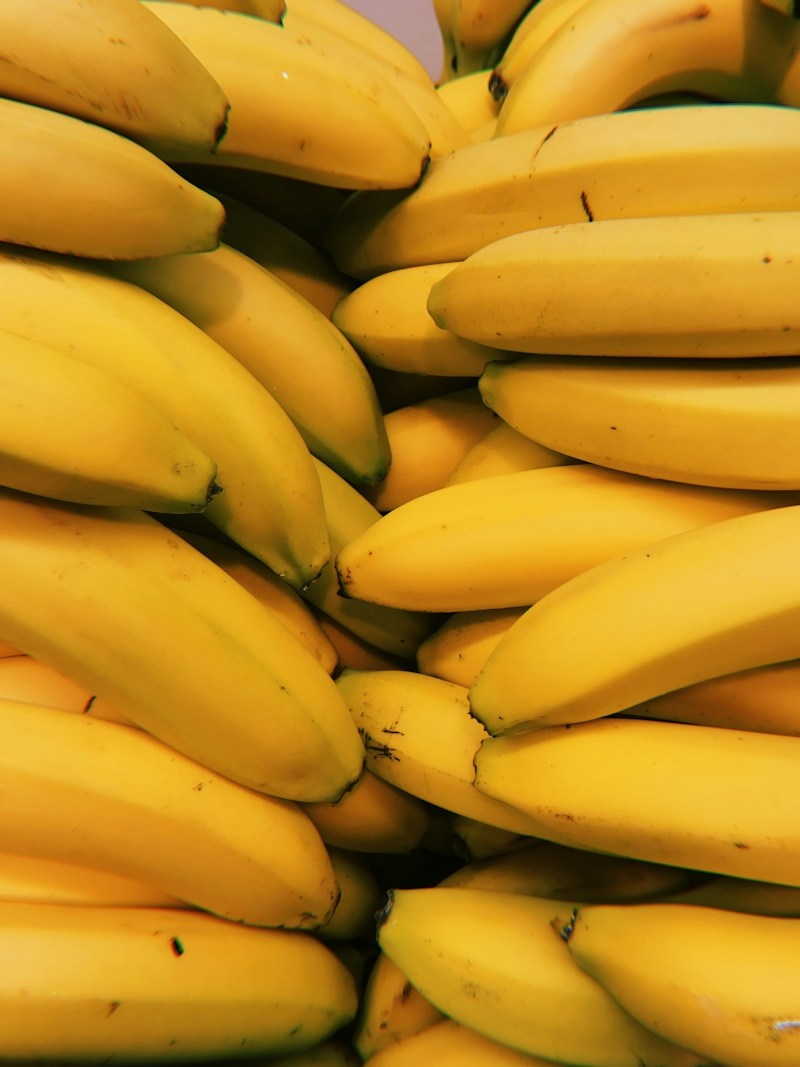banana peel: (0, 0, 798, 1006), (0, 689, 358, 1065), (463, 504, 800, 892), (0, 243, 340, 589), (1, 488, 362, 807), (1, 0, 470, 195), (360, 880, 799, 1067), (1, 698, 343, 933), (339, 108, 800, 276), (114, 241, 395, 494), (330, 460, 791, 612), (0, 889, 364, 1066), (465, 717, 799, 890), (426, 213, 800, 359), (454, 0, 799, 137), (471, 354, 799, 492), (0, 324, 218, 514), (1, 94, 227, 263)
